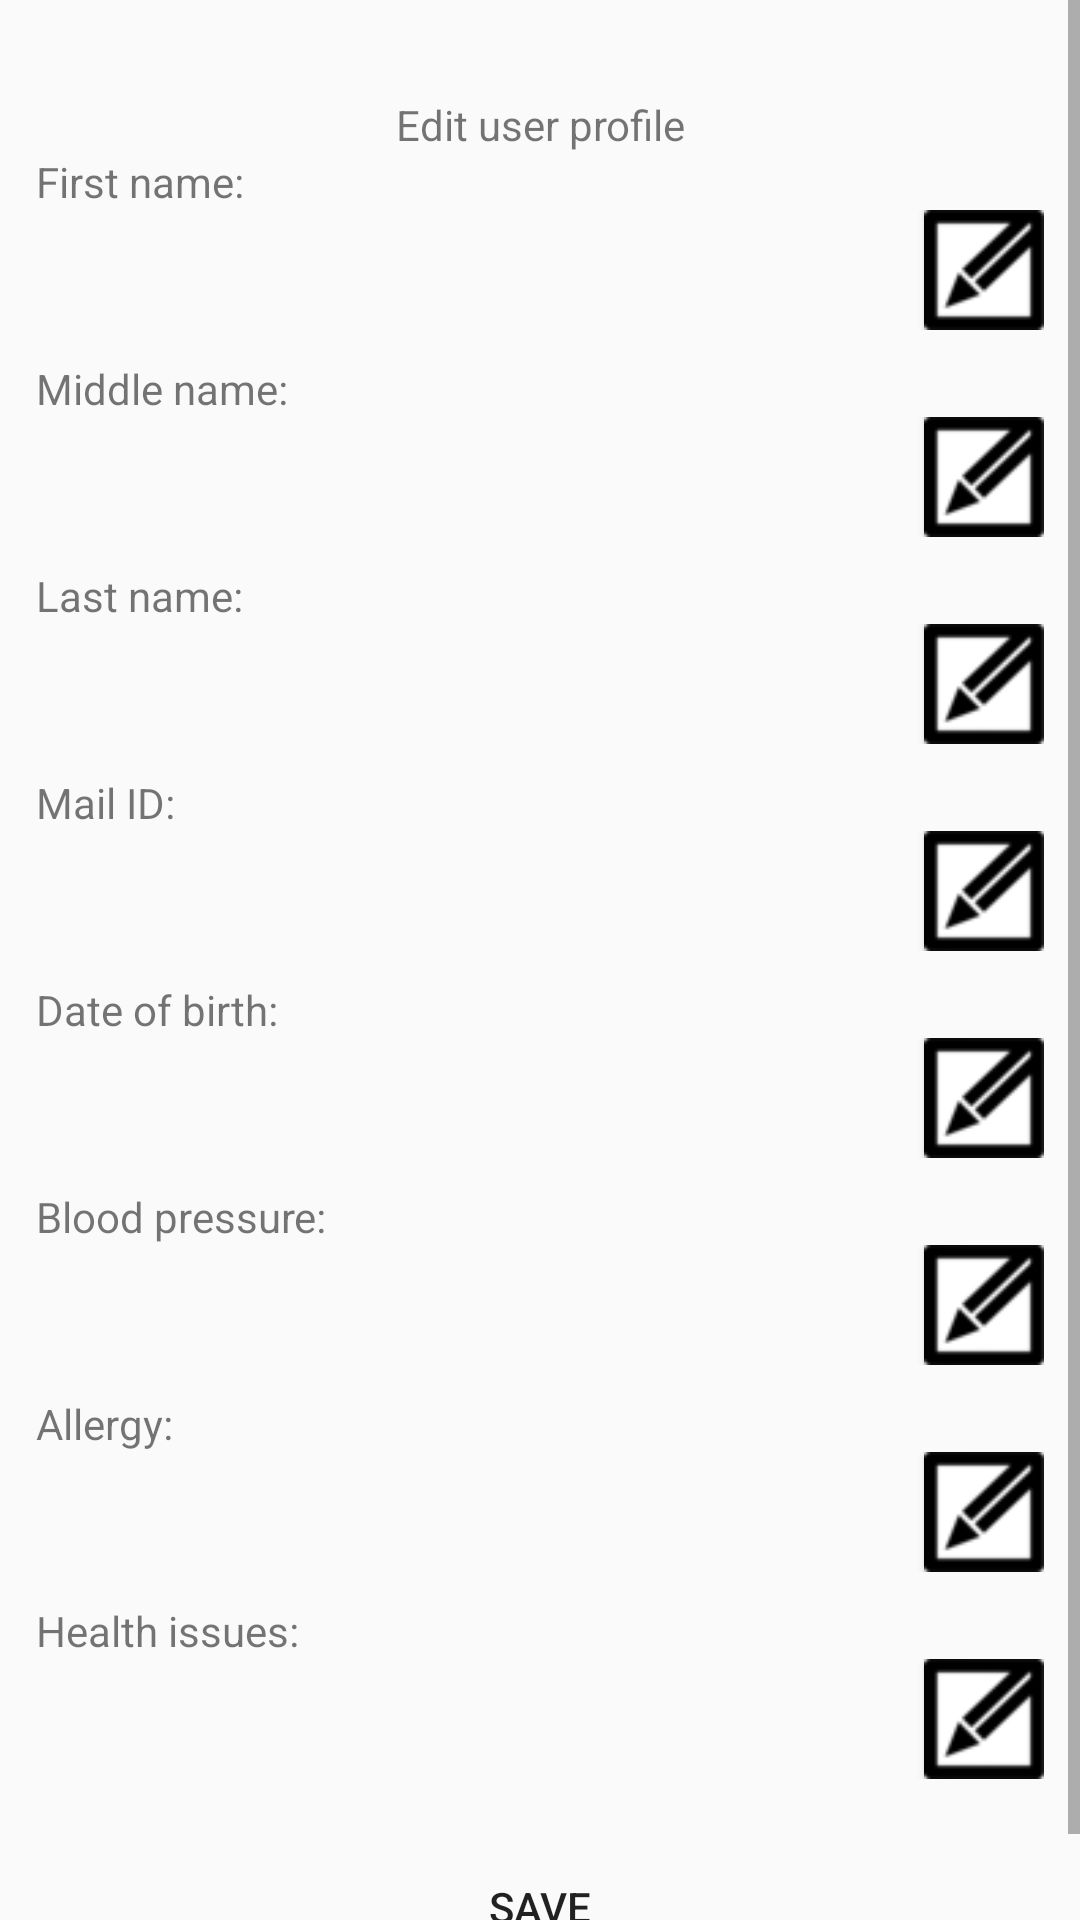

Where to tap for icons on this 1080*1920 app screen, as [x,y]:
smalleditbutton: [984,270], [984,477], [984,684], [984,891], [984,1098], [984,1305], [984,1512], [984,1719]
